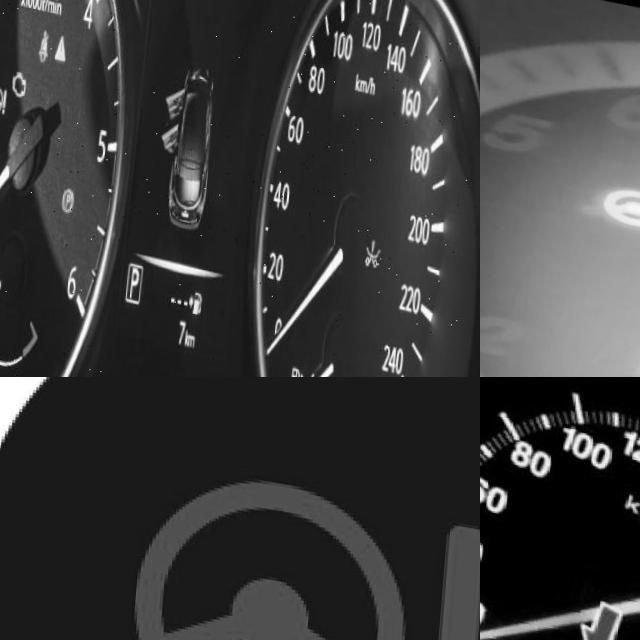Electronic Power Steering: (131, 454, 480, 640), (598, 170, 640, 232)
Seat Belt: (38, 25, 54, 58)
